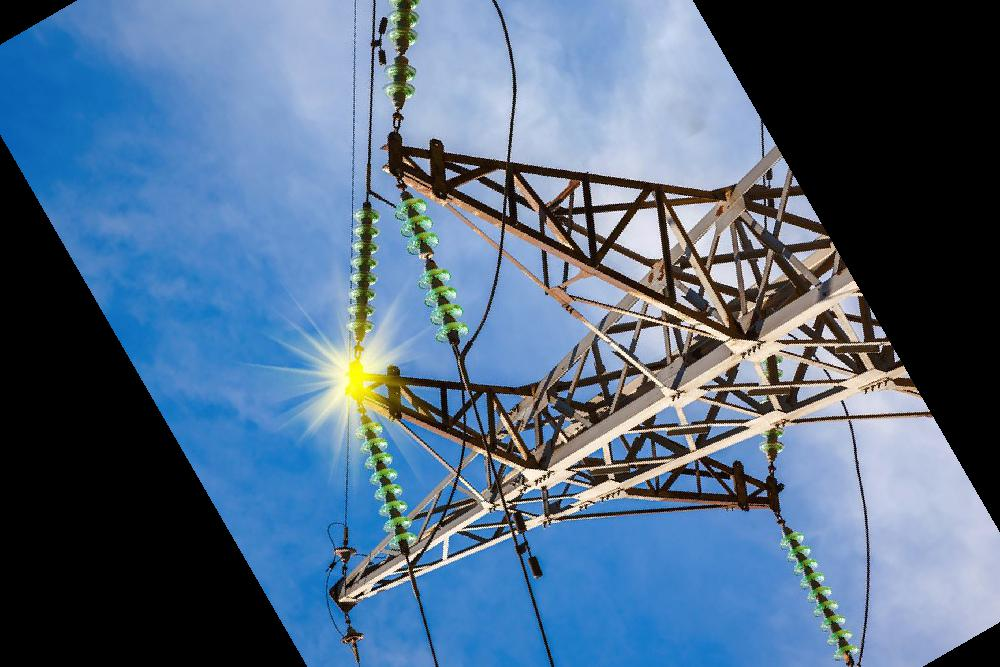insulator: (390, 193, 470, 347), (774, 526, 863, 664), (351, 417, 420, 554), (341, 204, 385, 338), (380, 1, 423, 105), (754, 422, 789, 457)
insulator_stringdrop: (402, 229, 454, 292), (382, 26, 419, 83)
